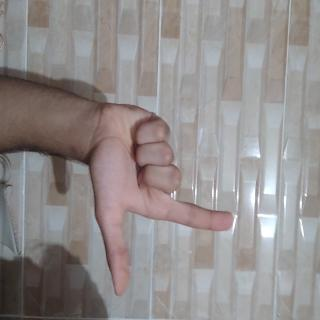LAAM: (69, 106, 226, 318)
